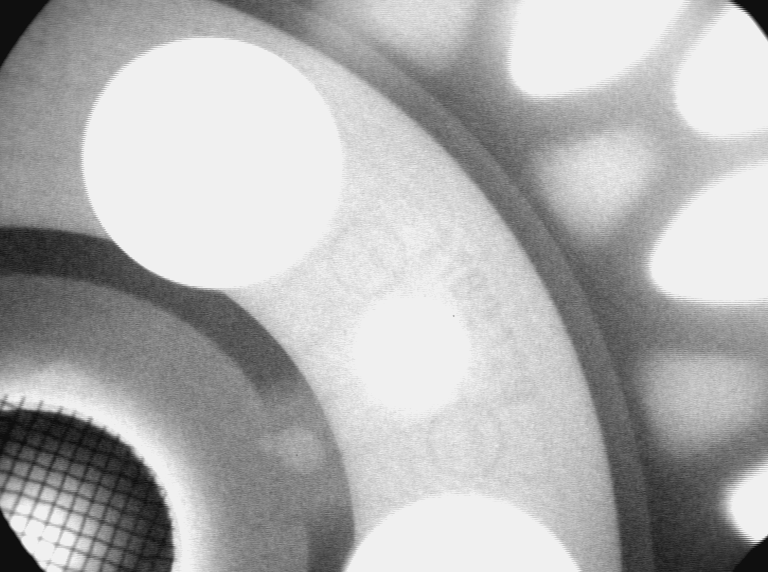defect: (258, 422, 331, 480)
